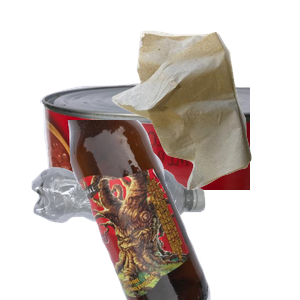glass: (65, 120, 300, 300)
metal: (37, 81, 277, 261)
plastic: (29, 165, 227, 300)
trash: (109, 28, 300, 208)
